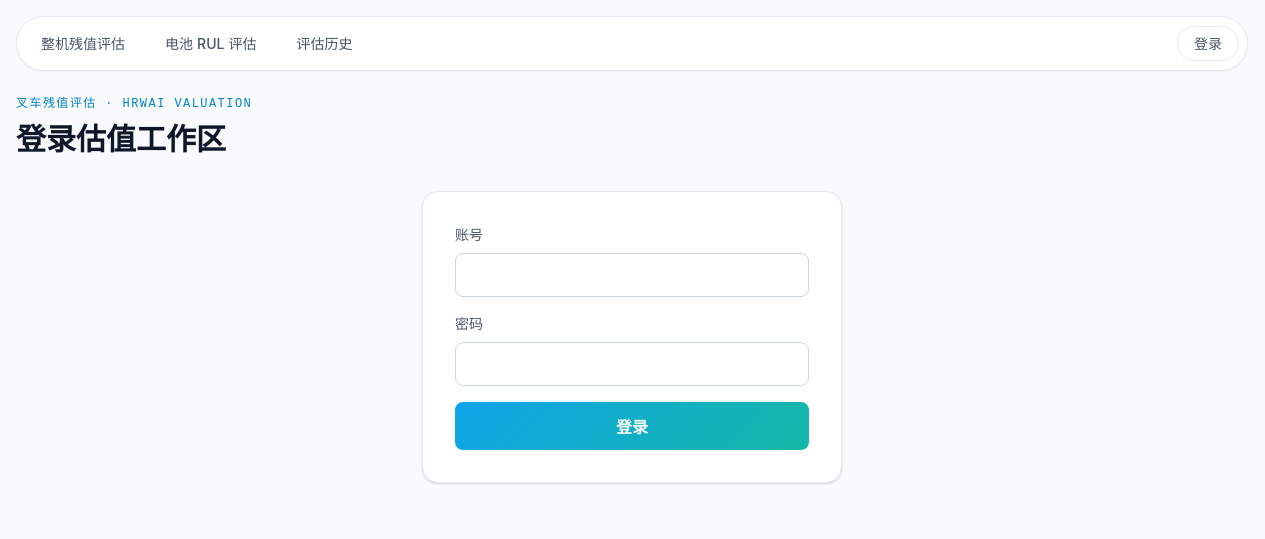
估值登录页 › 登录失败显示服务端文案（不显示 ofetch 原始串），且账号已去空白
Type "  demo  " into the field with test id "account" at (632, 274), box [455,252,809,296]
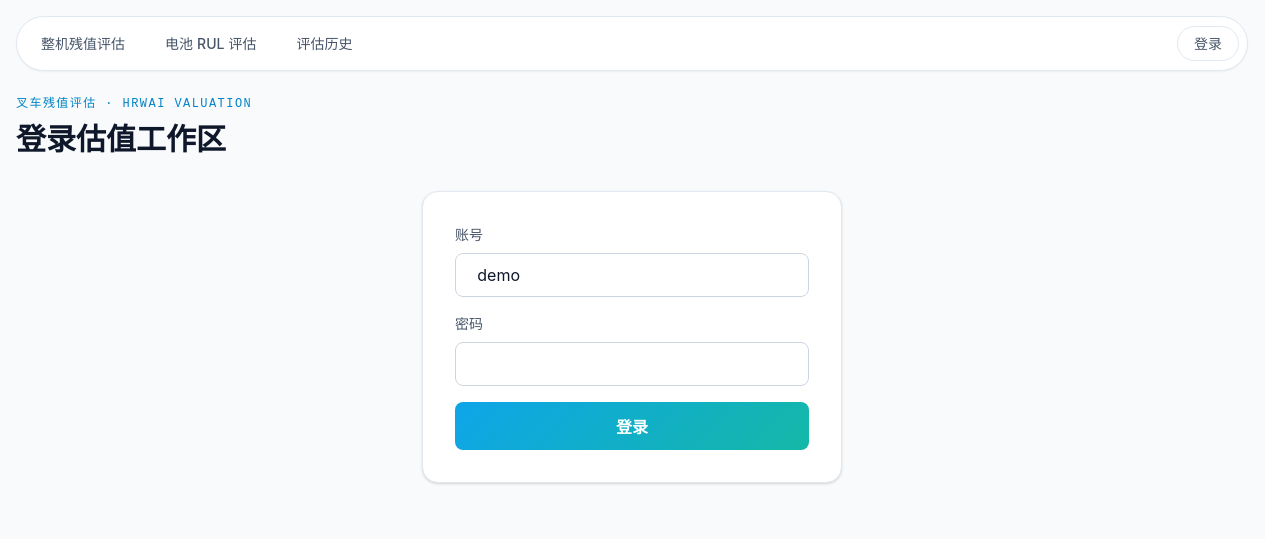
Type "bad" into the password field with test id "password" at (632, 364), box [455,342,809,386]
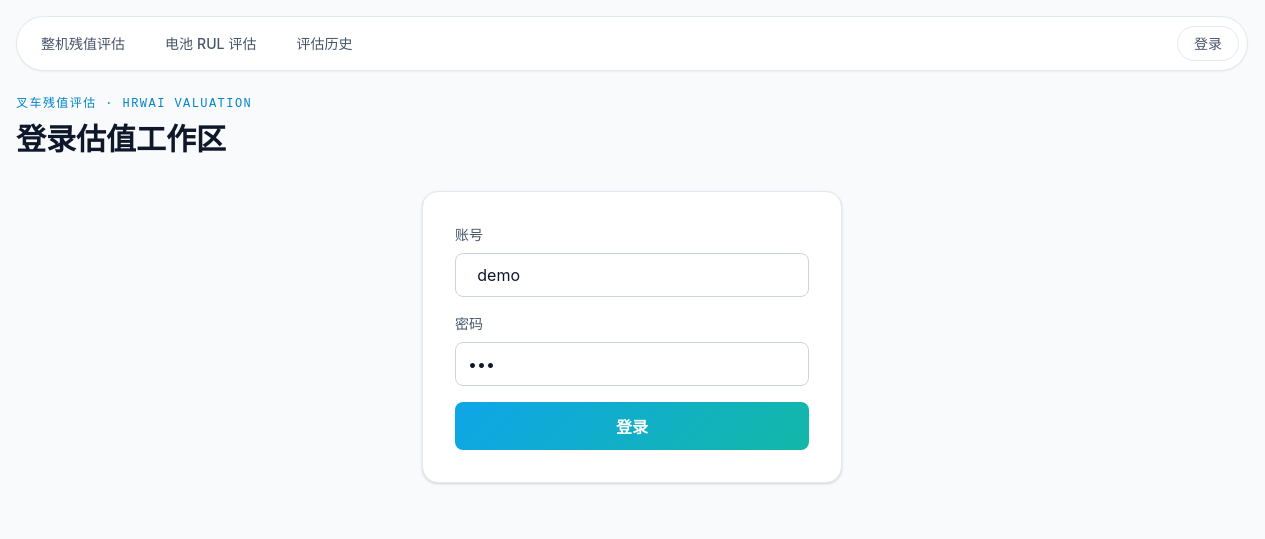
Submit the form, box [422,190,842,482]
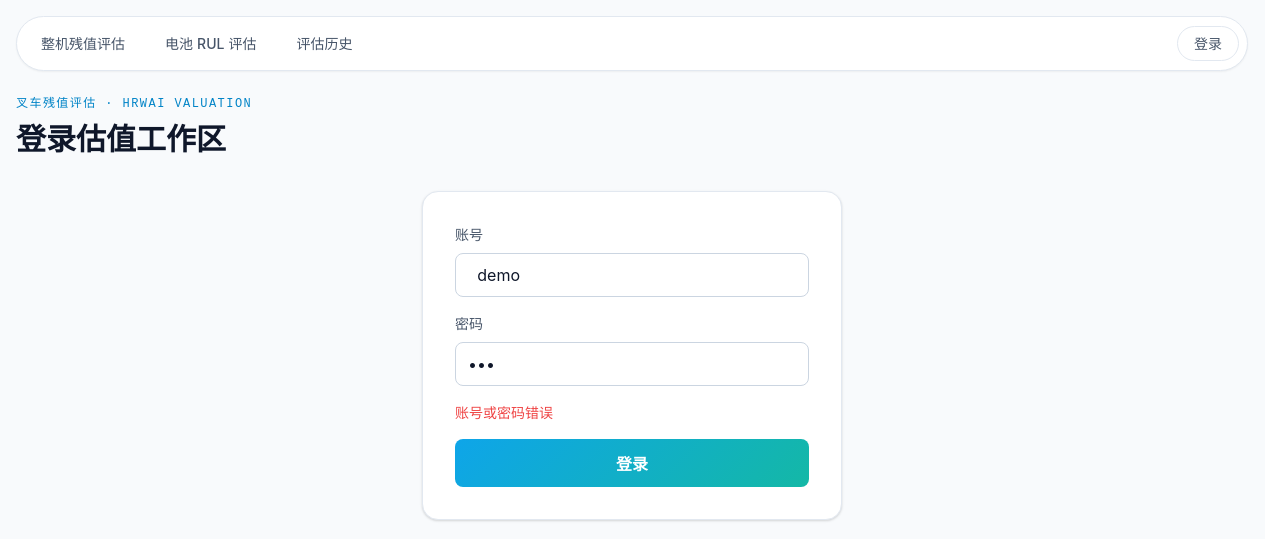
Check: the text "账号或密码错误" is shown, box [455,402,553,422]
